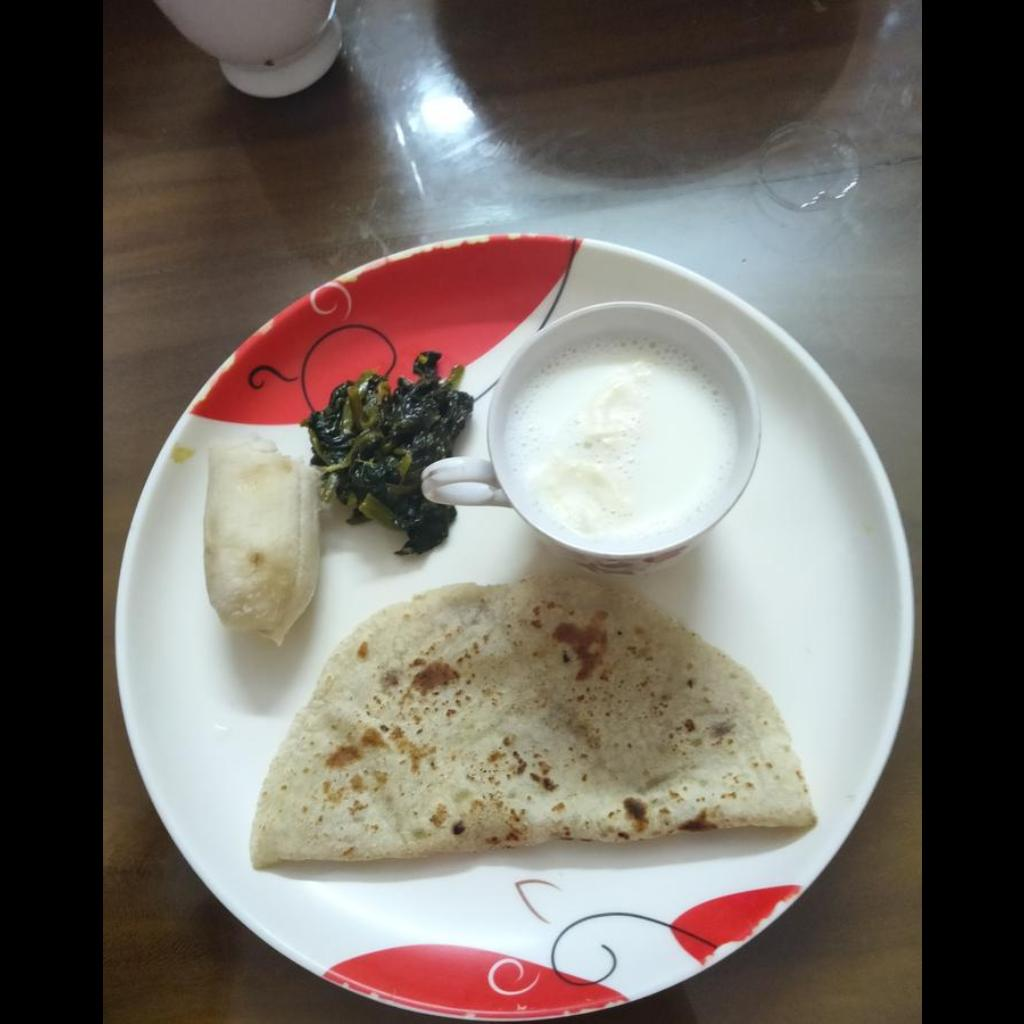banana: (204, 447, 317, 634)
milk: (503, 340, 740, 548)
ruti: (253, 569, 813, 862)
shak: (308, 352, 474, 550)
